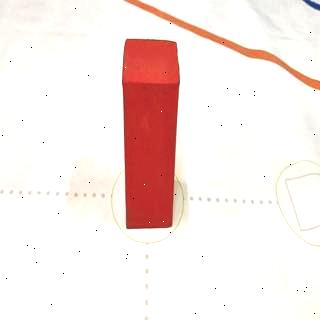redbox: (124, 37, 172, 228)
